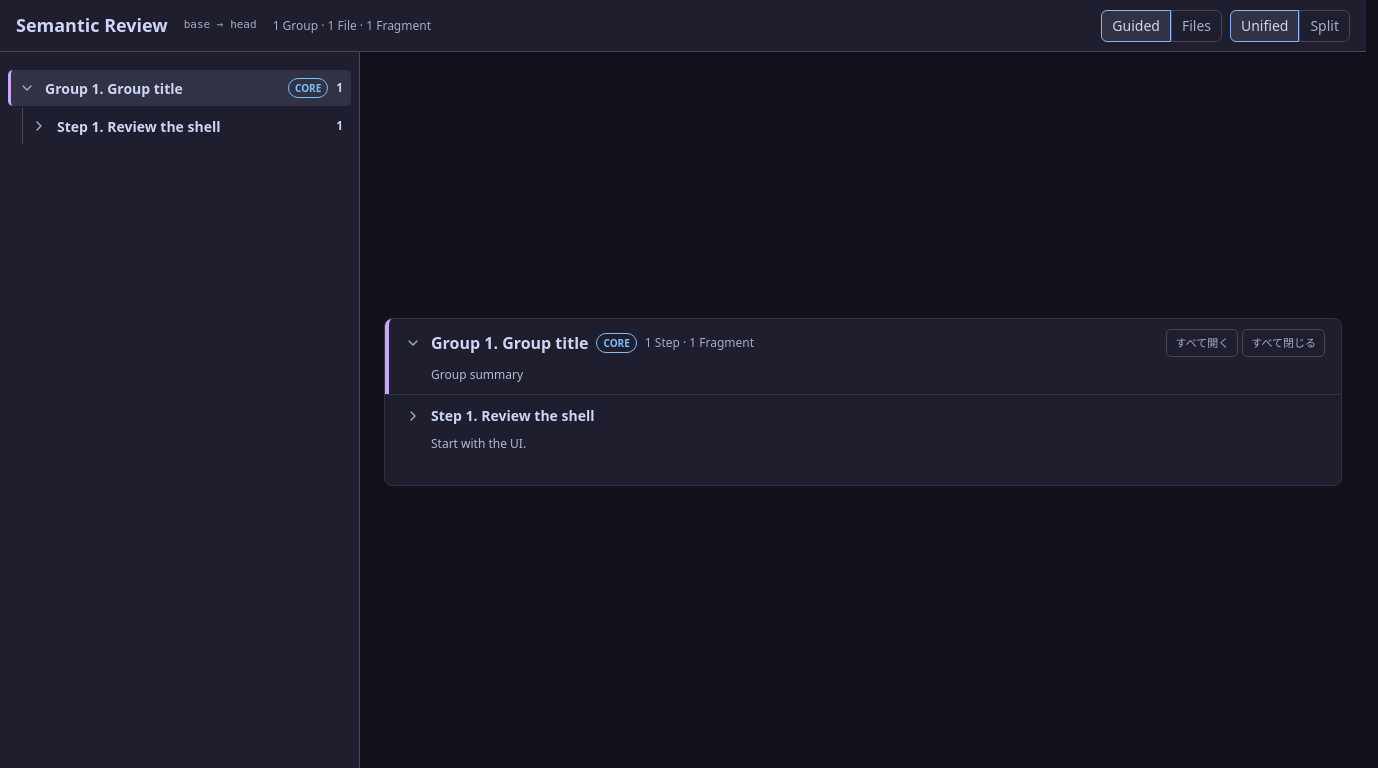
Test case: viewer regressions › uses Japanese when it appears in browser language preferences
Expected: the heading "Semantic Review" is shown, x1=16 y1=12 x2=168 y2=39
Expected: the text with class "stats" reads "1 Group · 1 File · 1 Fragment", x1=273 y1=16 x2=431 y2=34
What coordinates should you click on to do the following:
click the button "Files"
I would click on:
 (1196, 26)
Its box is x1=1171 y1=10 x2=1222 y2=42.
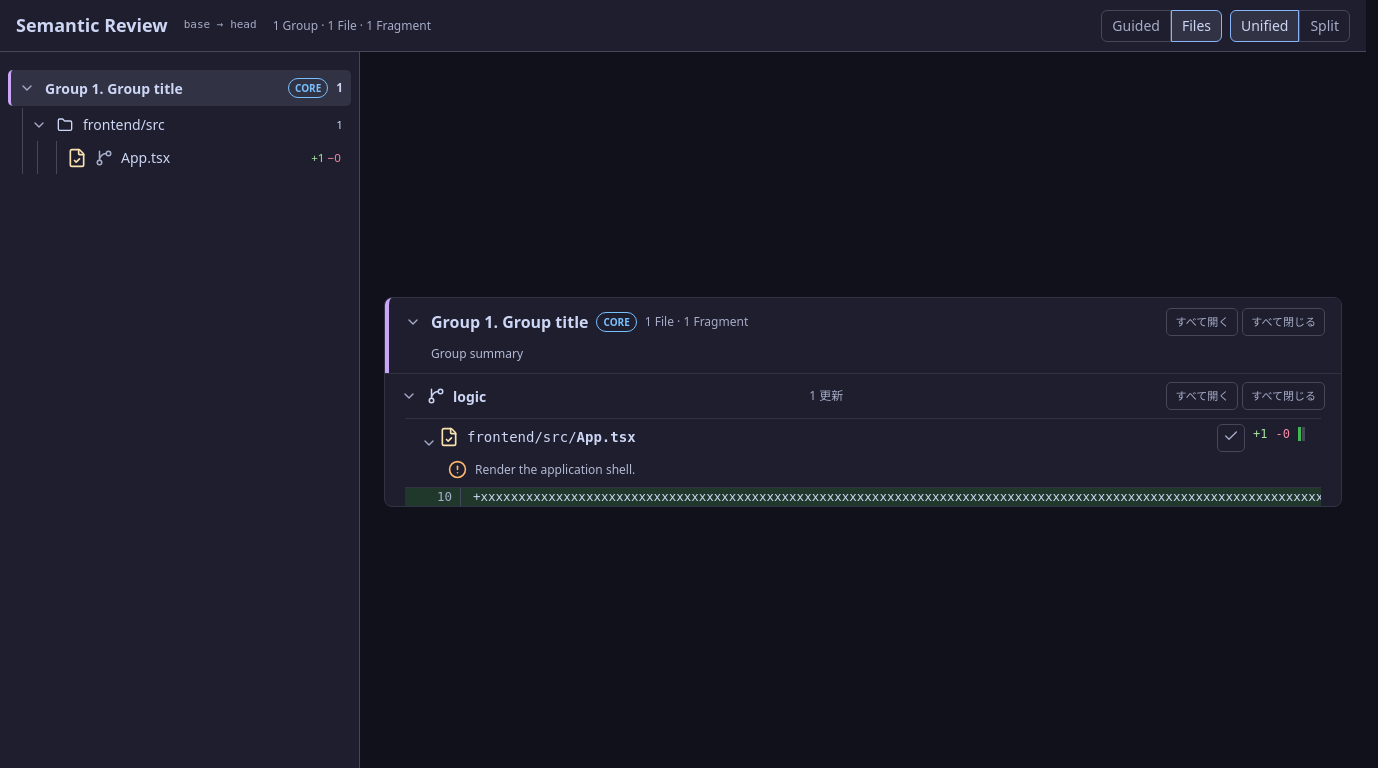
Now the text with class "count" reads "1 File · 1 Fragment", box x1=645 y1=313 x2=748 y2=330
